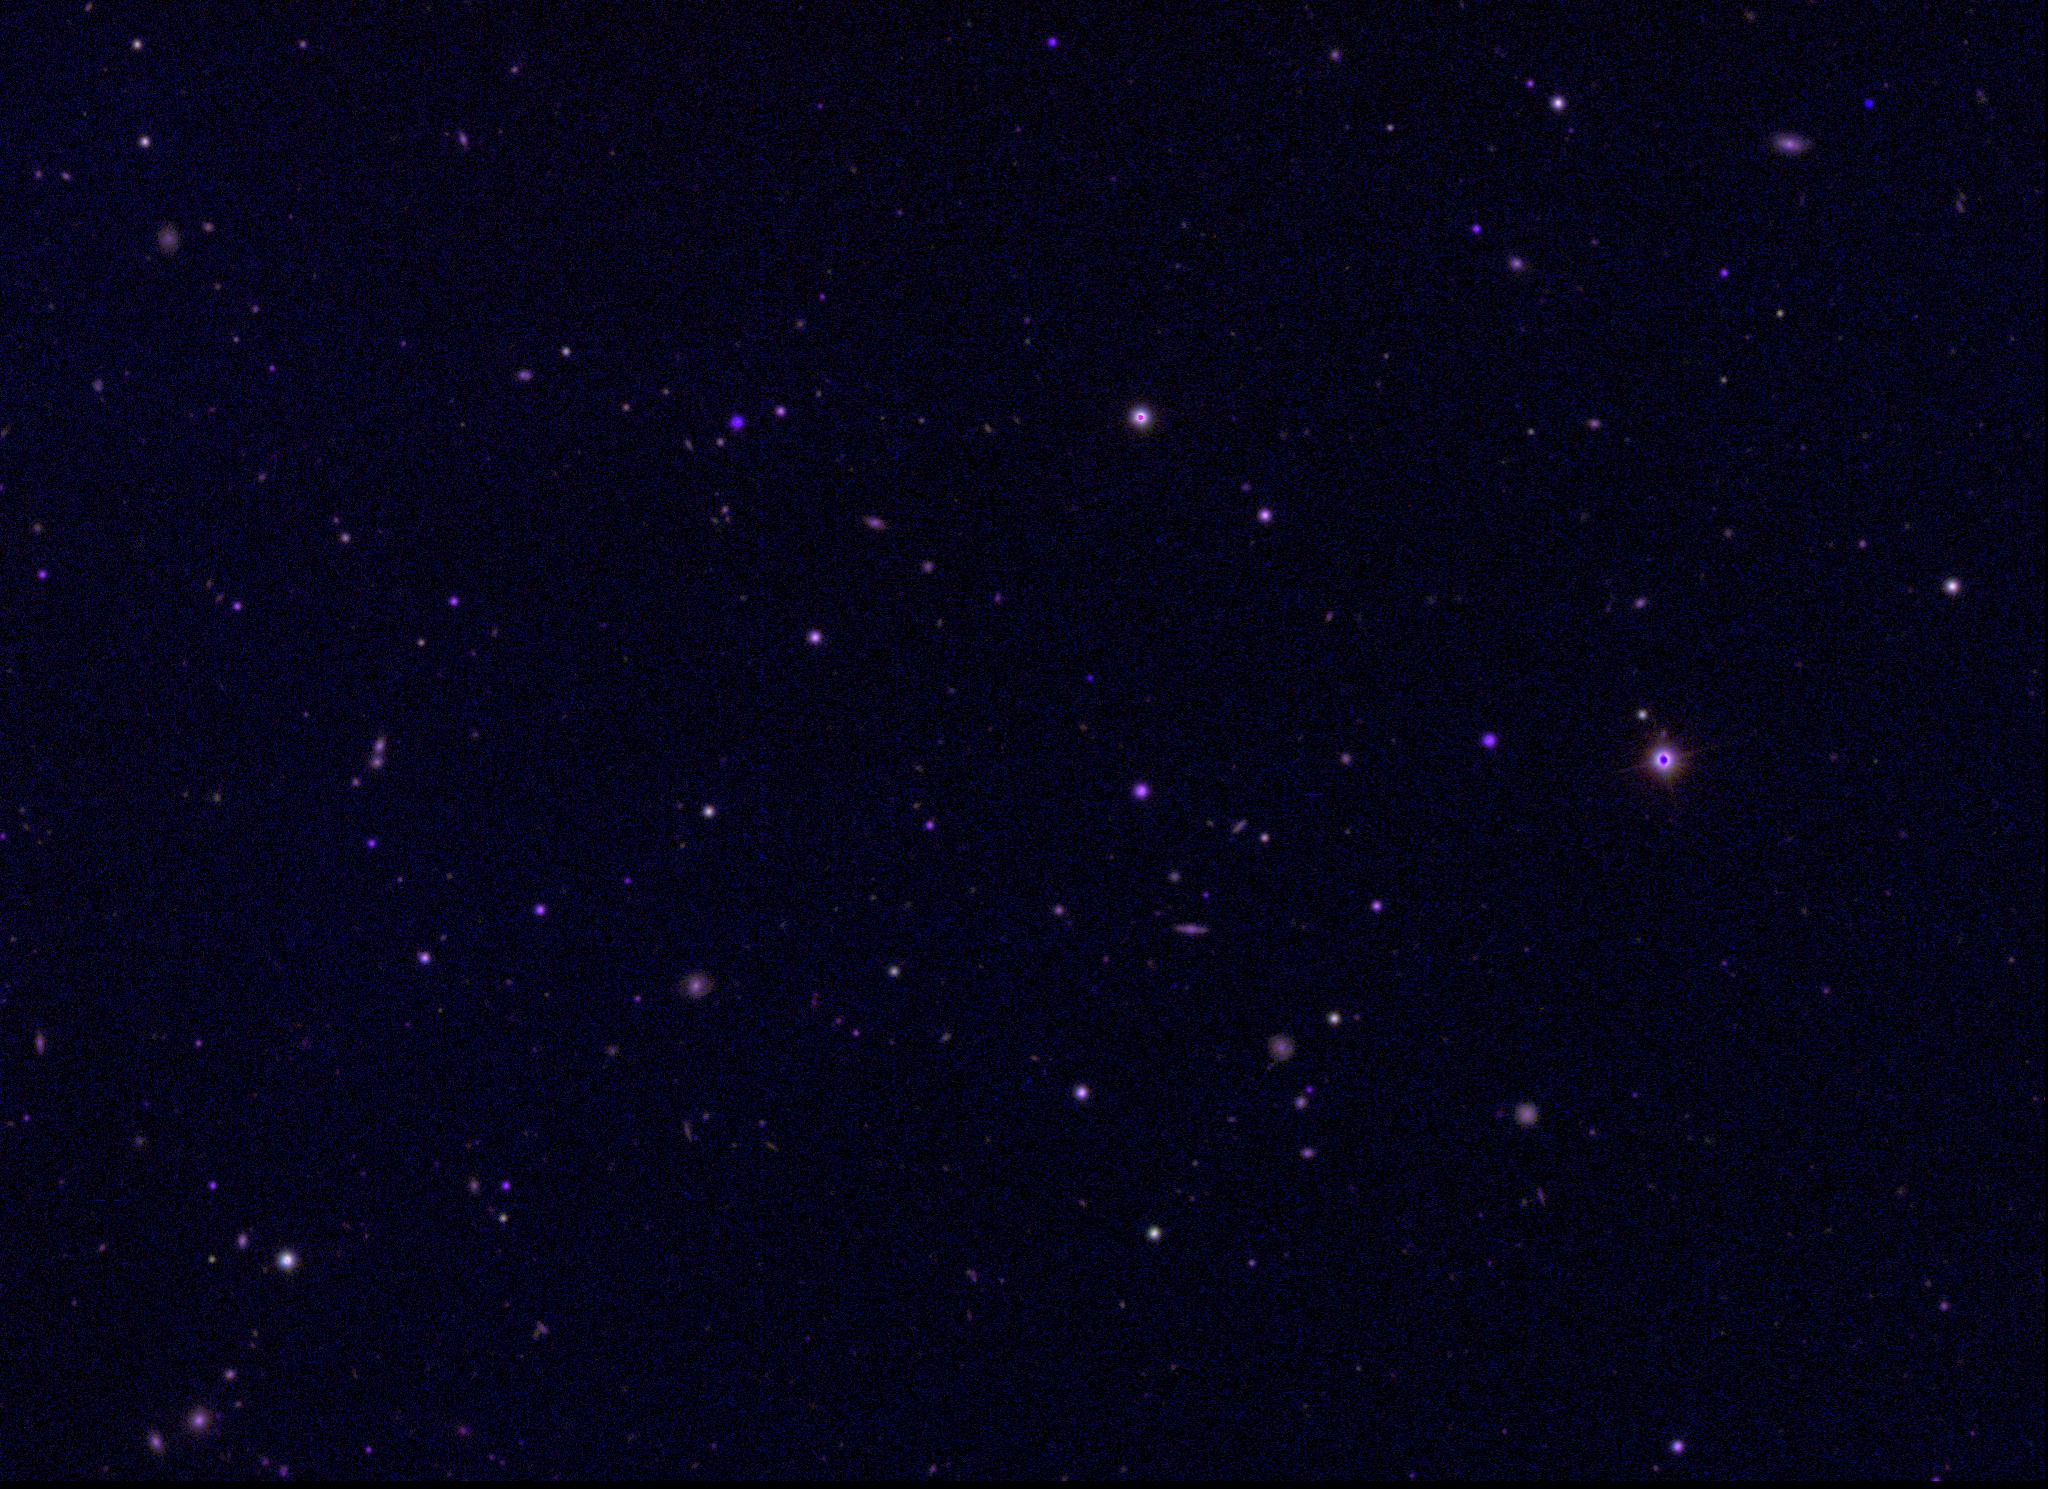L: (1862, 94, 1876, 108)
